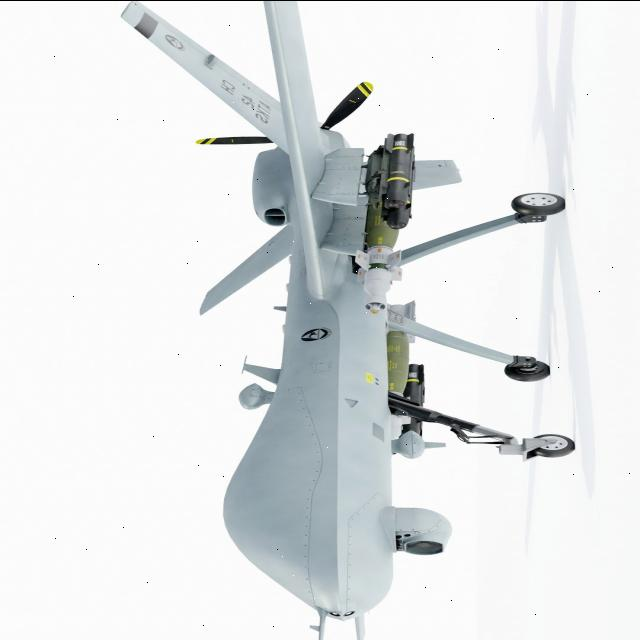MQ9: (79, 0, 601, 640)
